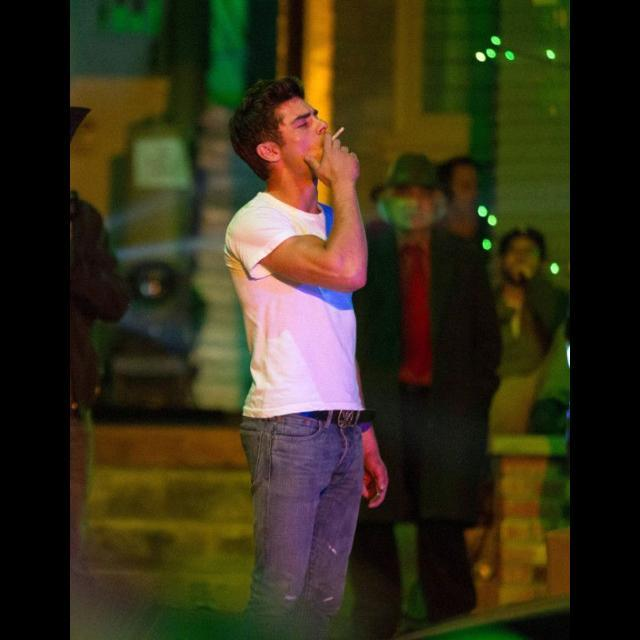rokok: (332, 126, 344, 140)
